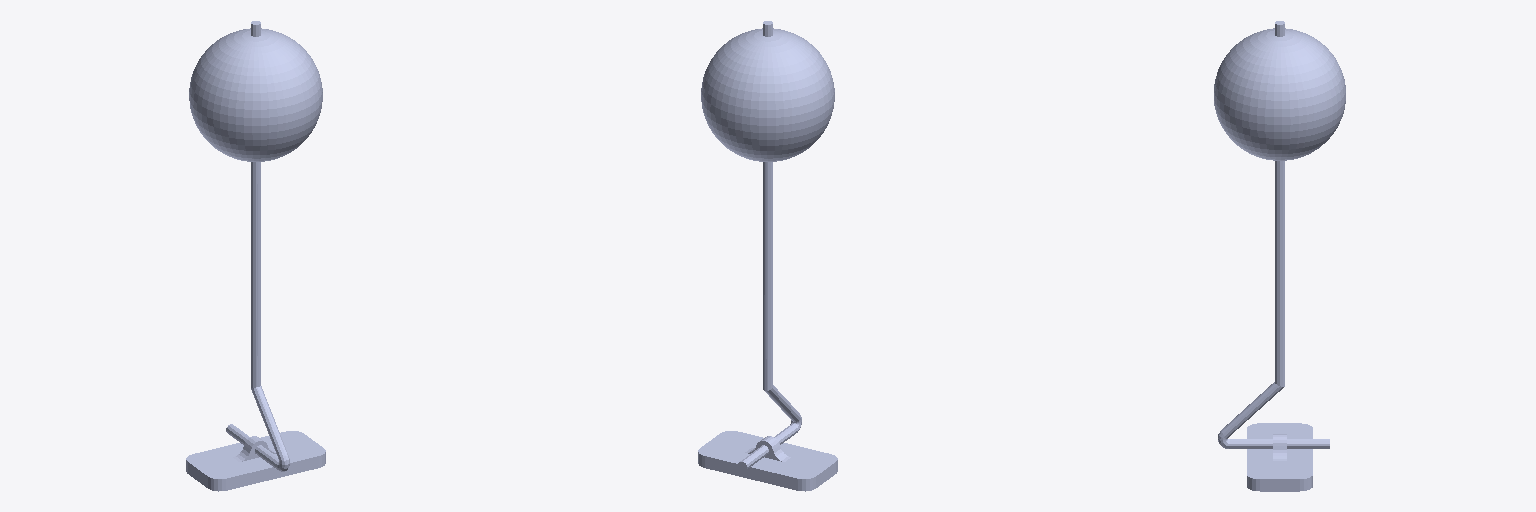
URDF robot description (bob_final):
<?xml version="1.0" encoding="utf-8"?>
<!-- This URDF was automatically created by SolidWorks to URDF Exporter! Originally created by Stephen Brawner (brawner@gmail.com) 
     Commit Version: 1.6.0-4-g7f85cfe  Build Version: 1.6.7995.38578
     For more information, please see http://wiki.ros.org/sw_urdf_exporter -->
<robot
  name="bob_final">
  <link
    name="base_link">
    <inertial>
      <origin
        xyz="6.0429E-18 4.8664E-18 0.0053279"
        rpy="0 0 0" />
      <mass
        value="0.050778" />
      <inertia
        ixx="1.0583E-05"
        ixy="3.5103E-21"
        ixz="-7.517E-24"
        iyy="4.0367E-05"
        iyz="7.1369E-22"
        izz="4.9749E-05" />
    </inertial>
    <visual>
      <origin
        xyz="0 0 0"
        rpy="0 0 0" />
      <geometry>
        <mesh
          filename="package://bob_final/meshes/base_link.STL" />
      </geometry>
      <material
        name="">
        <color
          rgba="0.79216 0.81961 0.93333 1" />
      </material>
    </visual>
    <collision>
      <origin
        xyz="0 0 0"
        rpy="0 0 0" />
      <geometry>
        <mesh
          filename="package://bob_final/meshes/base_link.STL" />
      </geometry>
    </collision>
  </link>
  <link
    name="p_link">
    <inertial>
      <origin
        xyz="0.0038295 0.13837 -5.0397E-08"
        rpy="0 0 0" />
      <mass
        value="0.022434" />
      <inertia
        ixx="0.00028983"
        ixy="1.0439E-05"
        ixz="9.3637E-12"
        iyy="4.3986E-06"
        iyz="-9.4845E-11"
        izz="0.00029405" />
    </inertial>
    <visual>
      <origin
        xyz="0 0 0"
        rpy="0 0 0" />
      <geometry>
        <mesh
          filename="package://bob_final/meshes/p_link.STL" />
      </geometry>
      <material
        name="">
        <color
          rgba="0.79216 0.81961 0.93333 1" />
      </material>
    </visual>
    <collision>
      <origin
        xyz="0 0 0"
        rpy="0 0 0" />
      <geometry>
        <mesh
          filename="package://bob_final/meshes/p_link.STL" />
      </geometry>
    </collision>
  </link>
  <joint
    name="j_1"
    type="revolute">
    <origin
      xyz="0 0 0.016"
      rpy="1.5708 0 -1.5708" />
    <parent
      link="base_link" />
    <child
      link="p_link" />
    <axis
      xyz="-1 0 0" />
    <limit
      lower="0"
      upper="0"
      effort="0"
      velocity="0" />
  </joint>
  <link
    name="bob_link">
    <inertial>
      <origin
        xyz="6.1087E-18 -0.049883 -6.8268E-17"
        rpy="0 0 0" />
      <mass
        value="0.5231" />
      <inertia
        ixx="0.00052258"
        ixy="-1.2381E-22"
        ixz="-2.6718E-38"
        iyy="0.00052359"
        iyz="2.0653E-22"
        izz="0.00052258" />
    </inertial>
    <visual>
      <origin
        xyz="0 0 0"
        rpy="0 0 0" />
      <geometry>
        <mesh
          filename="package://bob_final/meshes/bob_link.STL" />
      </geometry>
      <material
        name="">
        <color
          rgba="0.79216 0.81961 0.93333 1" />
      </material>
    </visual>
    <collision>
      <origin
        xyz="0 0 0"
        rpy="0 0 0" />
      <geometry>
        <mesh
          filename="package://bob_final/meshes/bob_link.STL" />
      </geometry>
    </collision>
  </link>
  <joint
    name="b_link"
    type="continuous">
    <origin
      xyz="0 0.34016 0"
      rpy="0 -1.5708 0" />
    <parent
      link="p_link" />
    <child
      link="bob_link" />
    <axis
      xyz="0 1 0" />
  </joint>
</robot>

--- Facts derived from the render (not from the file) ---
The picture shows the robot from 3 angles, left to right: view 1: azimuth 30°, elevation 25°; view 2: azimuth 150°, elevation 25°; view 3: azimuth 270°, elevation 25°; orthographic projection.
Model bob_final with 3 links and 2 joints (1 revolute, 1 continuous), rooted at base_link, posed all joints at 0.
Visible links, largest first — view 1: bob_link, base_link, p_link; view 2: bob_link, base_link, p_link; view 3: bob_link, p_link, base_link.
Link boxes in pixels (x1,y1,x2,y2): bob_link: (189,28,322,161); base_link: (186,431,325,491); p_link: (226,21,289,471); bob_link: (701,28,834,161); base_link: (698,431,837,491); p_link: (738,21,801,470); bob_link: (1214,28,1345,160); p_link: (1218,21,1329,448); base_link: (1247,423,1312,491).
Bounding box of the posed robot: 0.1 × 0.0998 × 0.366 m (x, y, z).
3 mesh visuals loaded from 3 distinct referenced files (3 binary STL).
